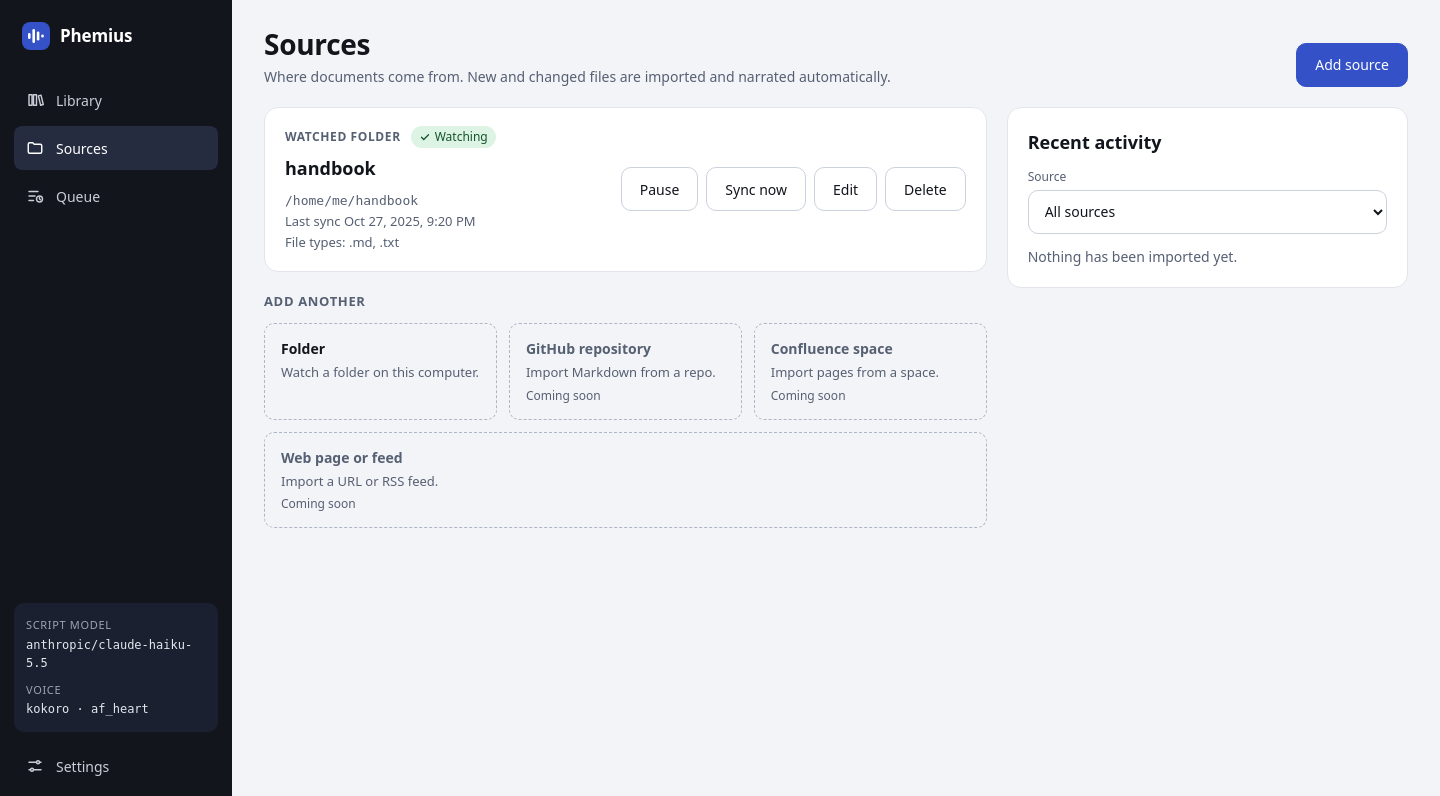
Test case: a source's excluded files › shows an active source syncing and the re-import in activity
Click the button "Edit" at [846, 189], box [814,167,877,211]
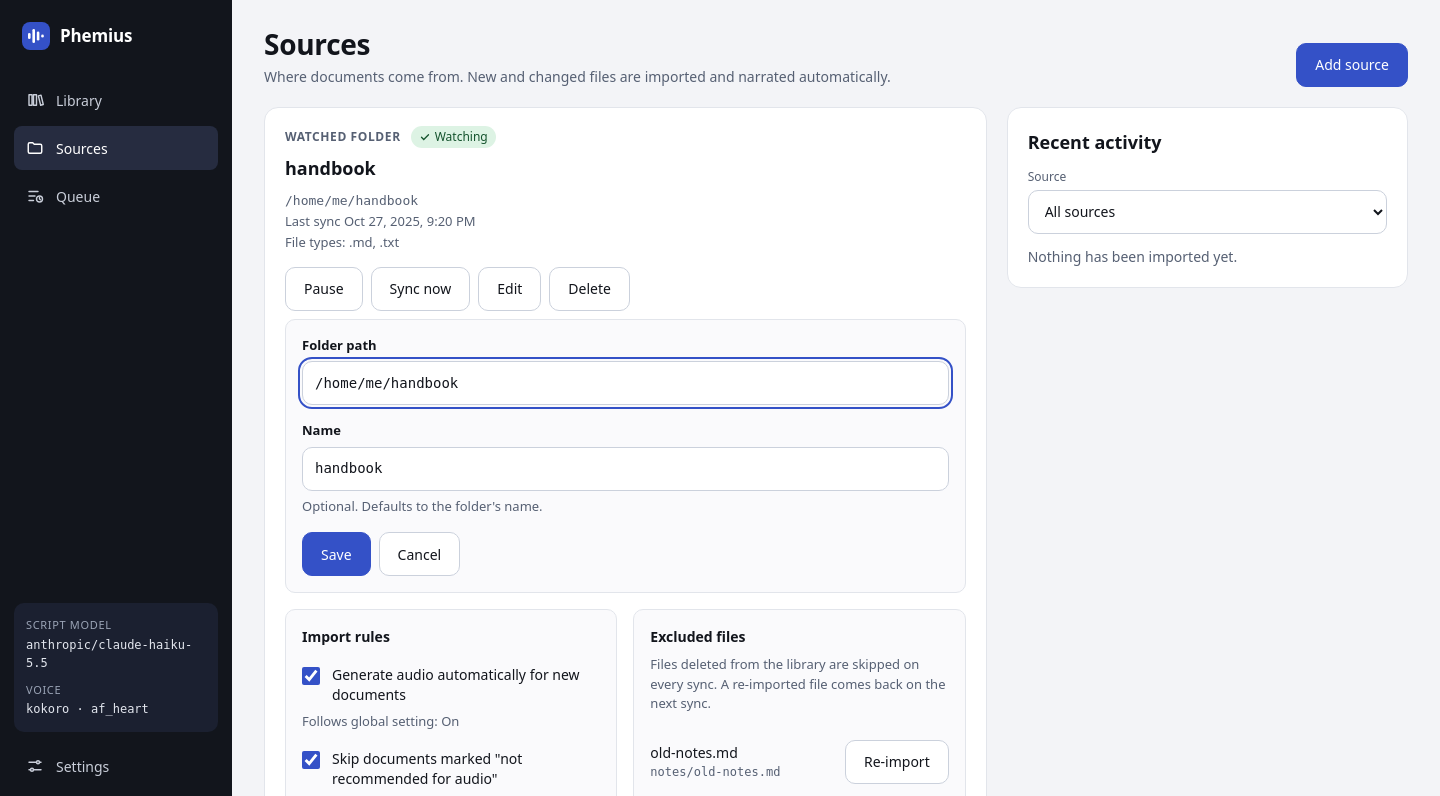
Click the button named "Re-import old-notes.md" at [897, 762], box [845,740,949,784]
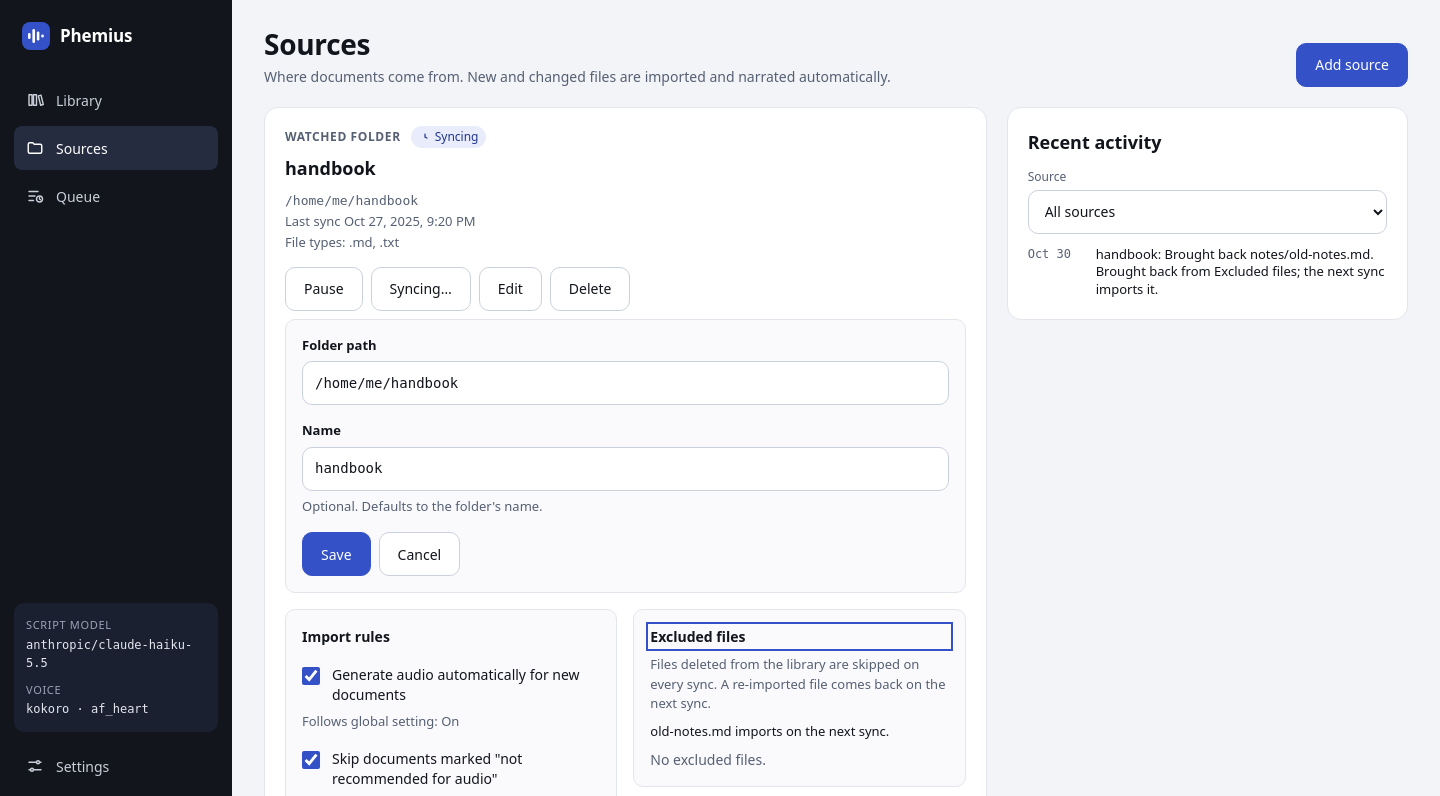
Expected: the text "Syncing" is shown, [411,126,486,148]
Expected: the text "handbook: Brought back notes/old-notes.md." is shown, [1096,245,1384,298]
